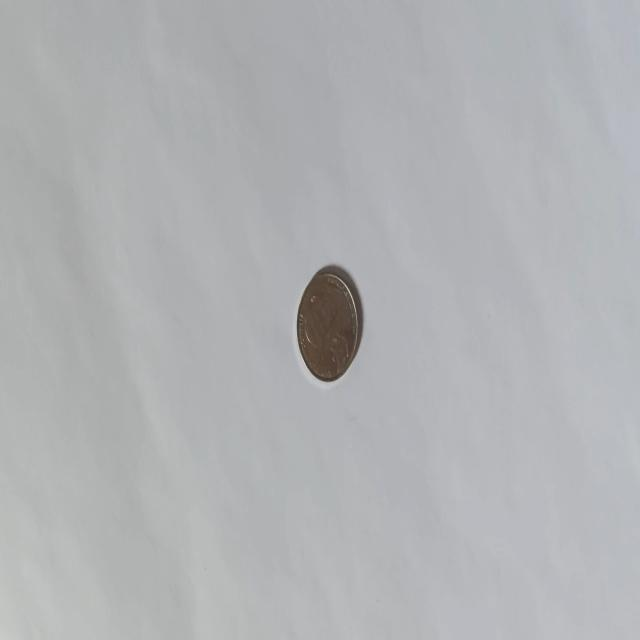seribu rupiah koin: (295, 264, 360, 384)
